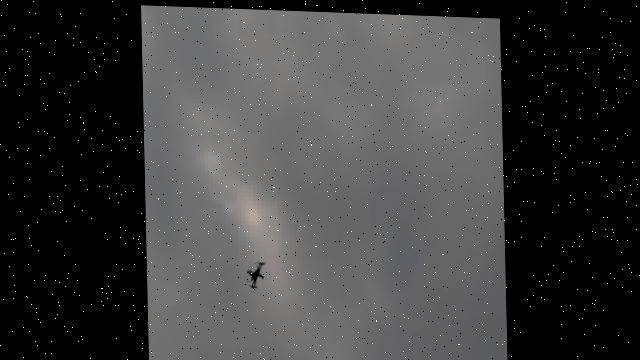drone: (243, 258, 266, 290)
